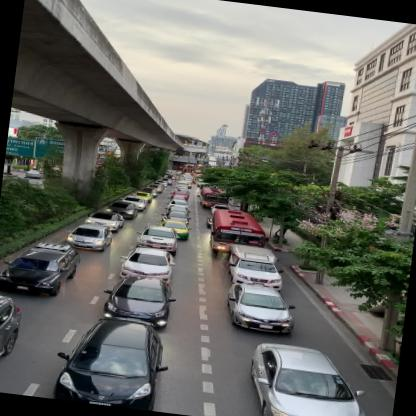bus: (207, 207, 266, 262)
car: (55, 310, 170, 412), (245, 340, 378, 415), (0, 237, 82, 300), (102, 272, 178, 328), (226, 281, 280, 332), (224, 244, 286, 286), (115, 244, 178, 285), (64, 220, 116, 254), (133, 221, 180, 250), (82, 210, 126, 232), (154, 218, 192, 240), (105, 200, 140, 218)
